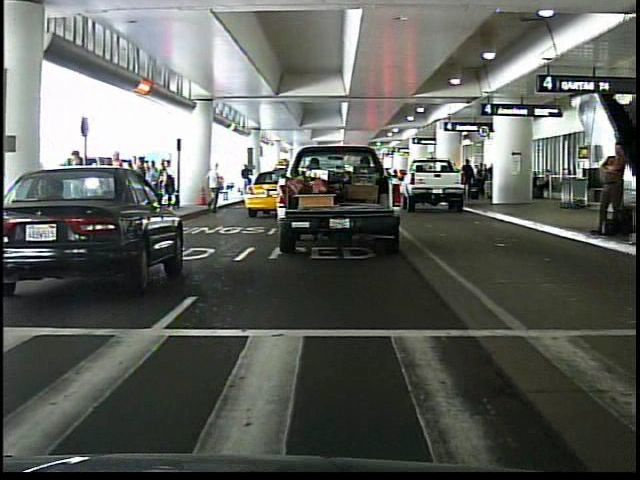person: (593, 137, 631, 246), (103, 151, 130, 223), (204, 157, 226, 213), (238, 162, 257, 196)
